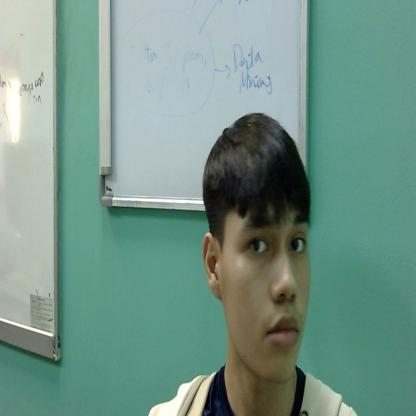Open-Eyes: (237, 214, 313, 265)
